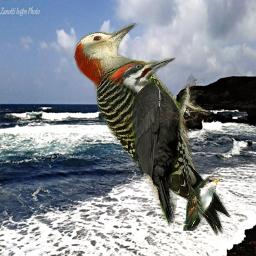Cuckoo: (183, 176, 223, 231)
Woodpecker: (69, 23, 233, 236), (107, 57, 205, 228)
